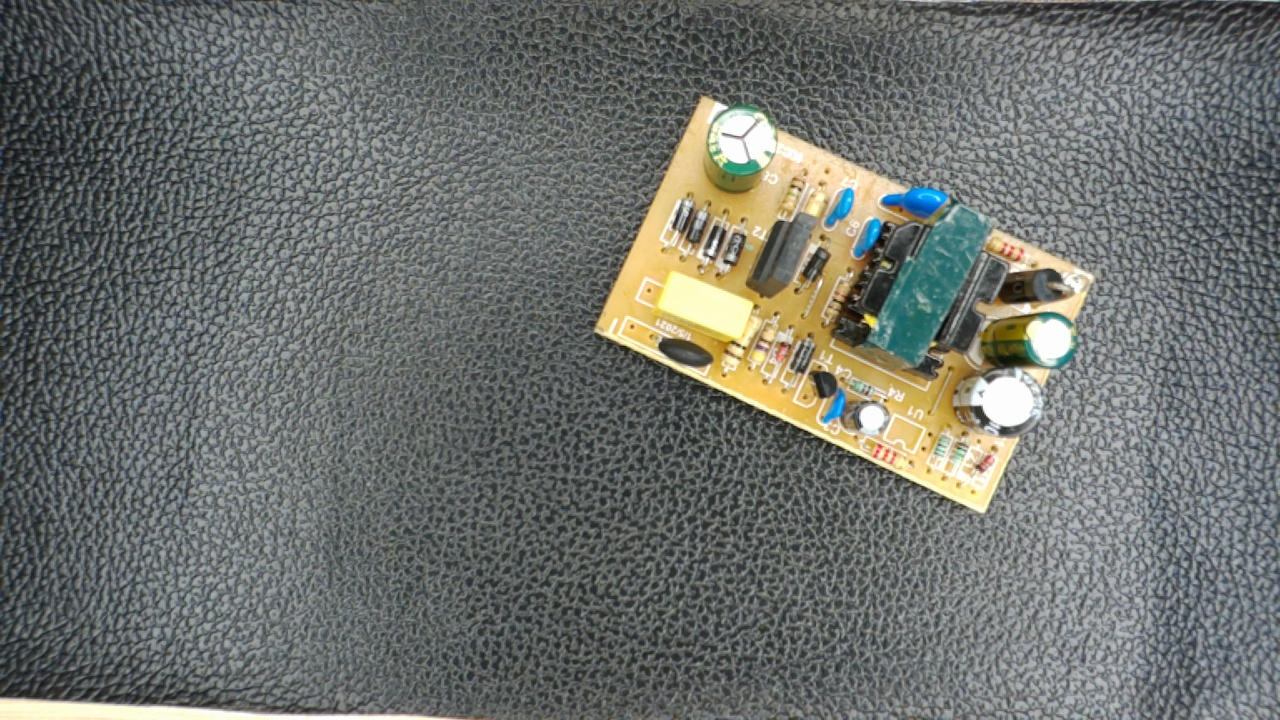fuse: (644, 326, 720, 375)
hv_capacitor: (699, 102, 782, 195)
mov: (875, 180, 960, 218)
